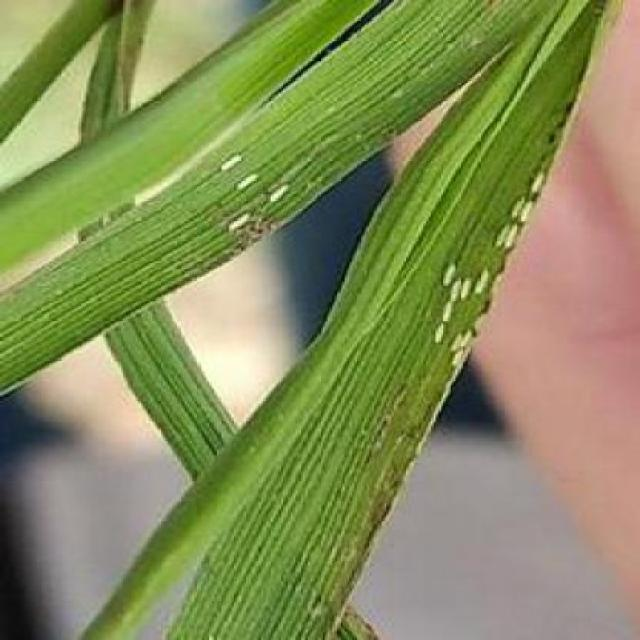whorl-maggot: (492, 222, 523, 250), (522, 170, 549, 198), (227, 211, 256, 237), (477, 262, 494, 304), (266, 186, 296, 208), (514, 195, 537, 223), (219, 152, 246, 174), (237, 172, 266, 192), (451, 348, 475, 372), (448, 278, 464, 312), (436, 302, 456, 324), (443, 257, 454, 291), (434, 324, 448, 350)
